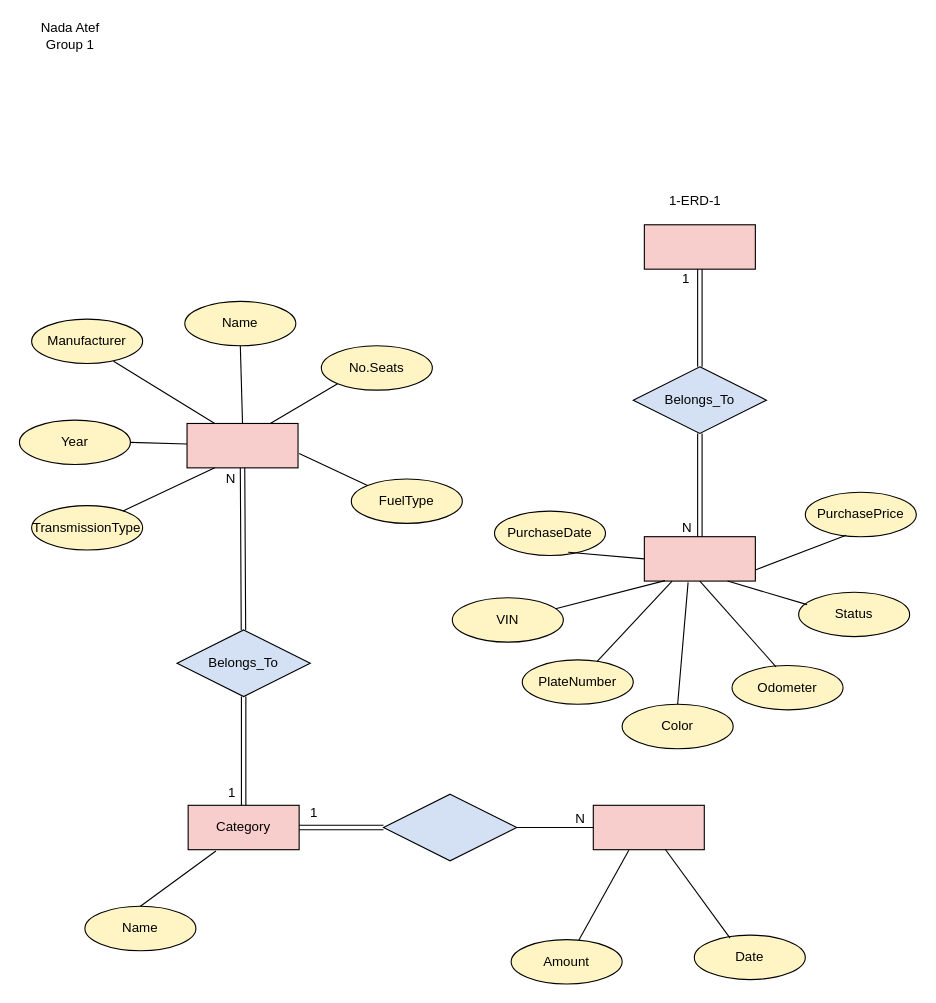
This 936x1003 diagram has some shape labels left out. Each missing label, with the box of its shape:
Branch: (643, 224, 755, 269)
Car_Model: (186, 422, 298, 468)
Category_Rate: (592, 804, 704, 850)
Owns: (382, 793, 517, 861)
Vehicle: (643, 536, 755, 581)
